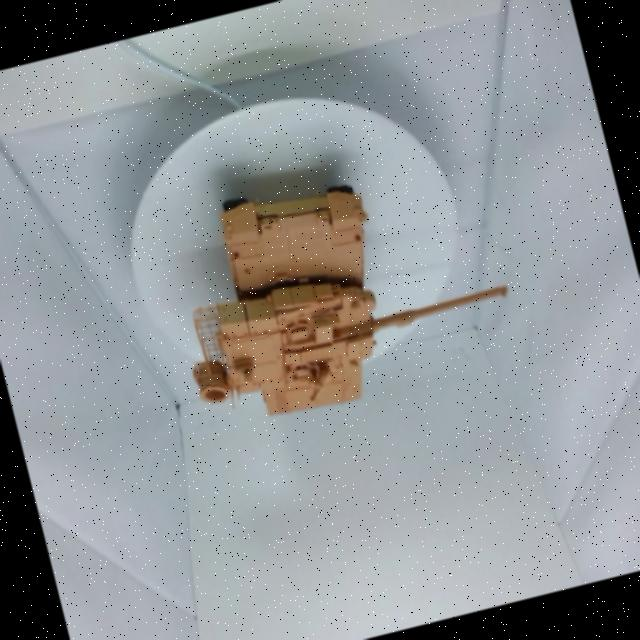korea tank: (116, 106, 554, 485)
